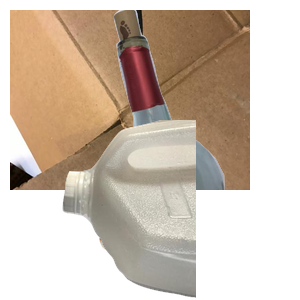cardboard: (10, 10, 250, 190)
glass: (89, 10, 300, 190)
plastic: (60, 120, 300, 300)
trash: (97, 151, 283, 300)
